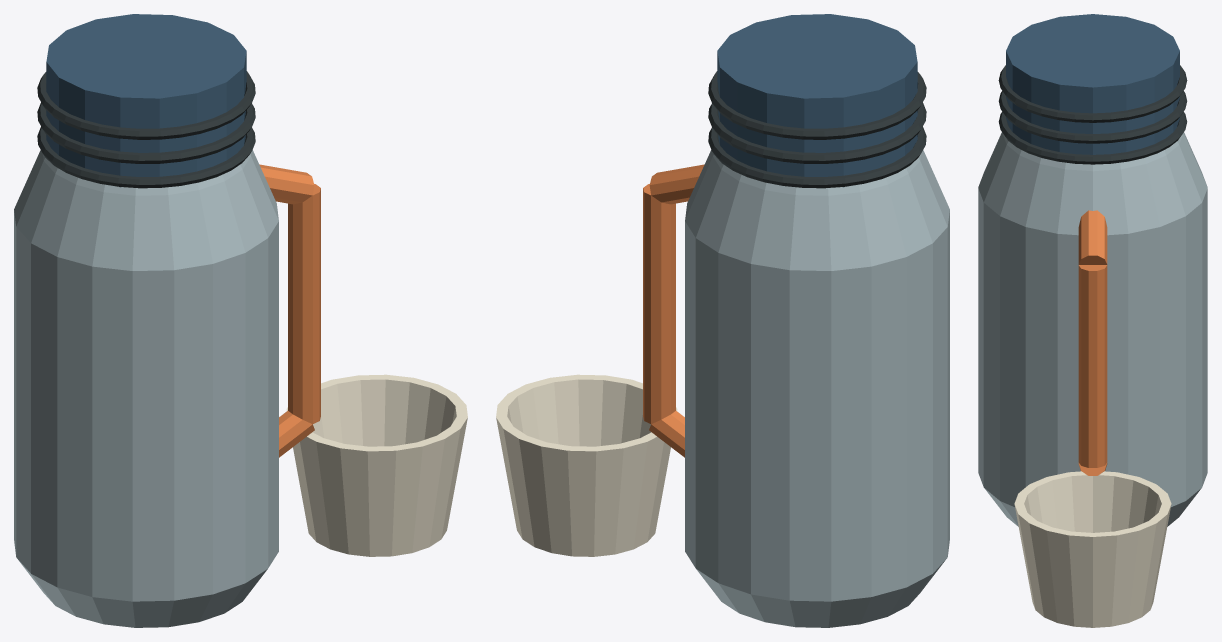
File: harbor-and-tackle-thermos-flask-4fa4c784__19584.glb
3 views of the same model, side by side, from view 1: azimuth 30°, elevation 25°; view 2: azimuth 150°, elevation 25°; view 3: azimuth 270°, elevation 25° (orthographic). The views are drawn at different scales.
Visible parts, largest first — view 1: metal, ivory, navy, orange, rubber; view 2: metal, ivory, navy, orange, rubber; view 3: metal, ivory, navy, orange, rubber.
Part boxes in pixels (<box>): metal: <box>14,150,278,627</box>; ivory: <box>286,374,467,556</box>; navy: <box>46,14,246,187</box>; orange: <box>259,164,320,457</box>; rubber: <box>37,71,255,188</box>; metal: <box>685,150,949,627</box>; ivory: <box>496,374,677,556</box>; navy: <box>717,14,917,187</box>; orange: <box>643,164,704,457</box>; rubber: <box>708,71,926,188</box>; metal: <box>978,132,1207,526</box>; ivory: <box>1014,471,1171,627</box>; navy: <box>1006,14,1179,154</box>; orange: <box>1078,210,1107,475</box>; rubber: <box>998,65,1187,164</box>.
Bounding box in the file's own units: 0.35 × 0.415 × 0.19.
